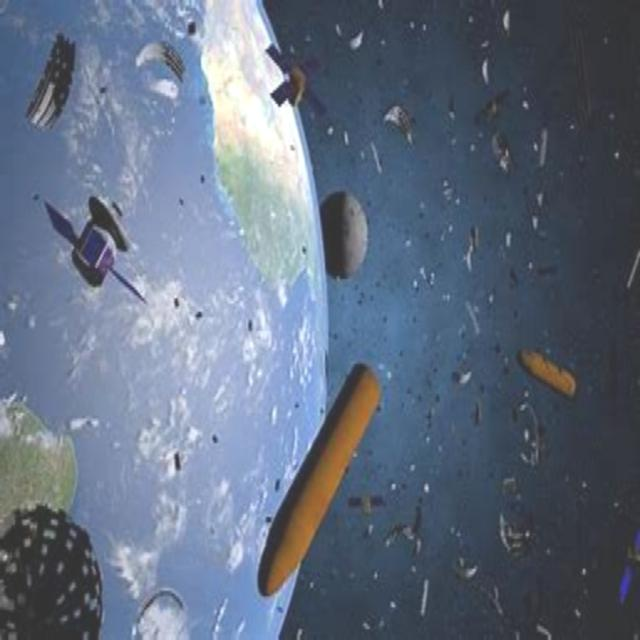large_debris: (254, 360, 384, 613), (0, 374, 114, 640), (48, 177, 164, 317), (250, 20, 340, 133), (25, 22, 90, 152), (505, 318, 586, 407)
